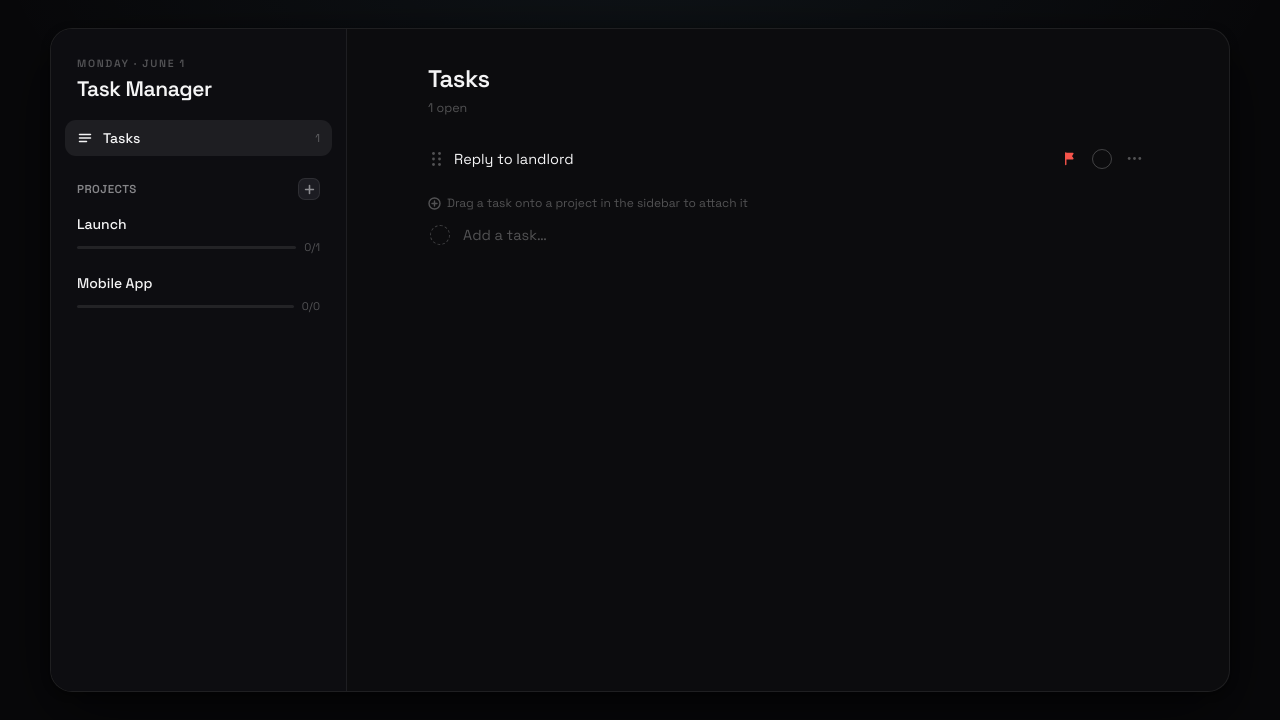
Desktop layout › switches the main pane when a project is selected in the sidebar
Click the text "Launch". click: coordinates (102, 224)
box: [77,215,127,233]
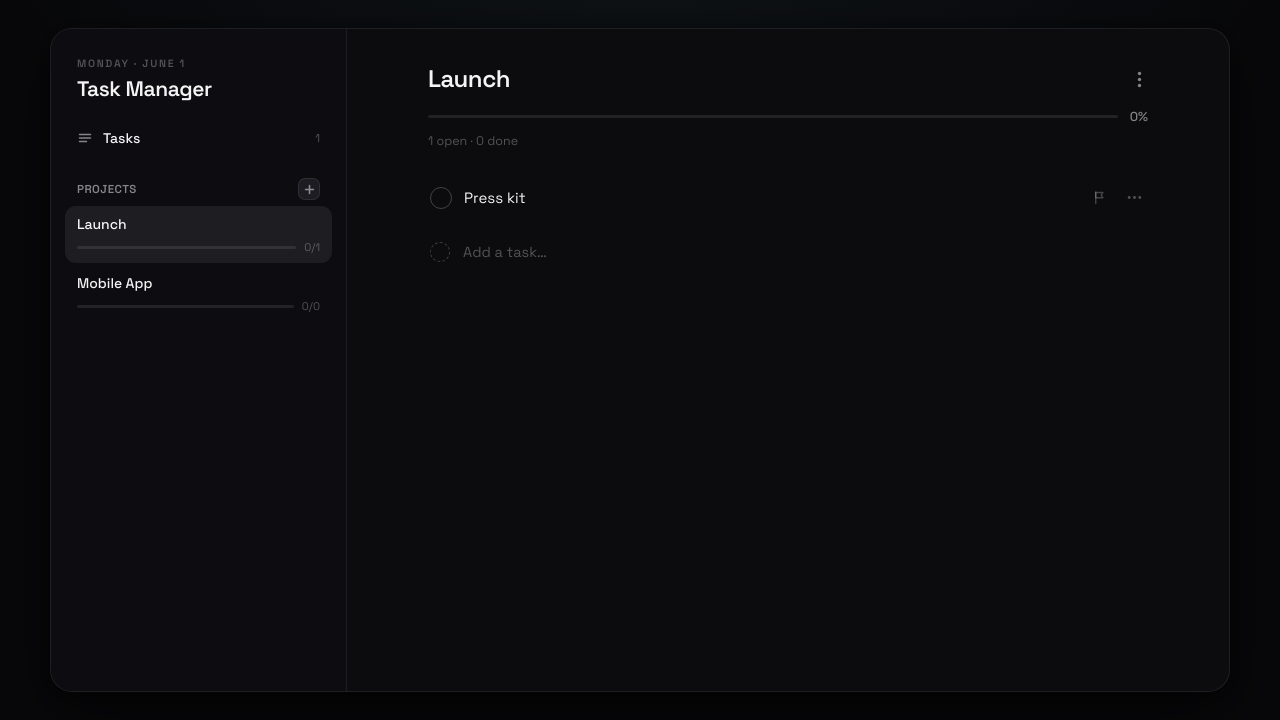
Now the text "Press kit" is shown, box [464,188,526,207]
